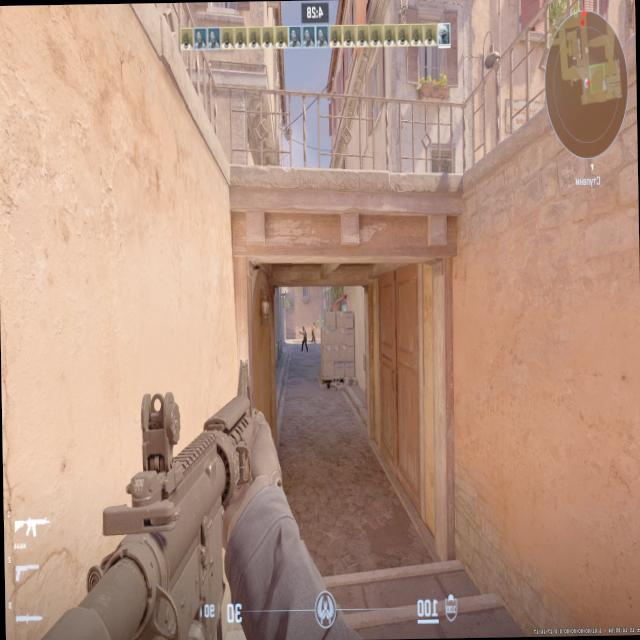T: (302, 327, 306, 351)
T_heat: (302, 328, 304, 332)
